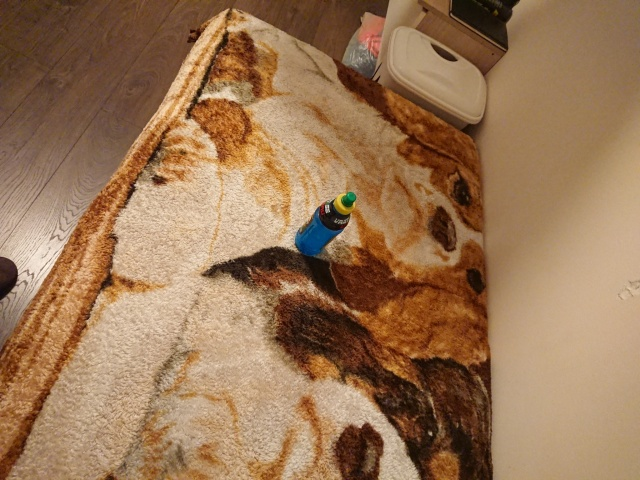Vindi Iso Sport Forest Strawberries 500mL: (293, 190, 357, 257)
